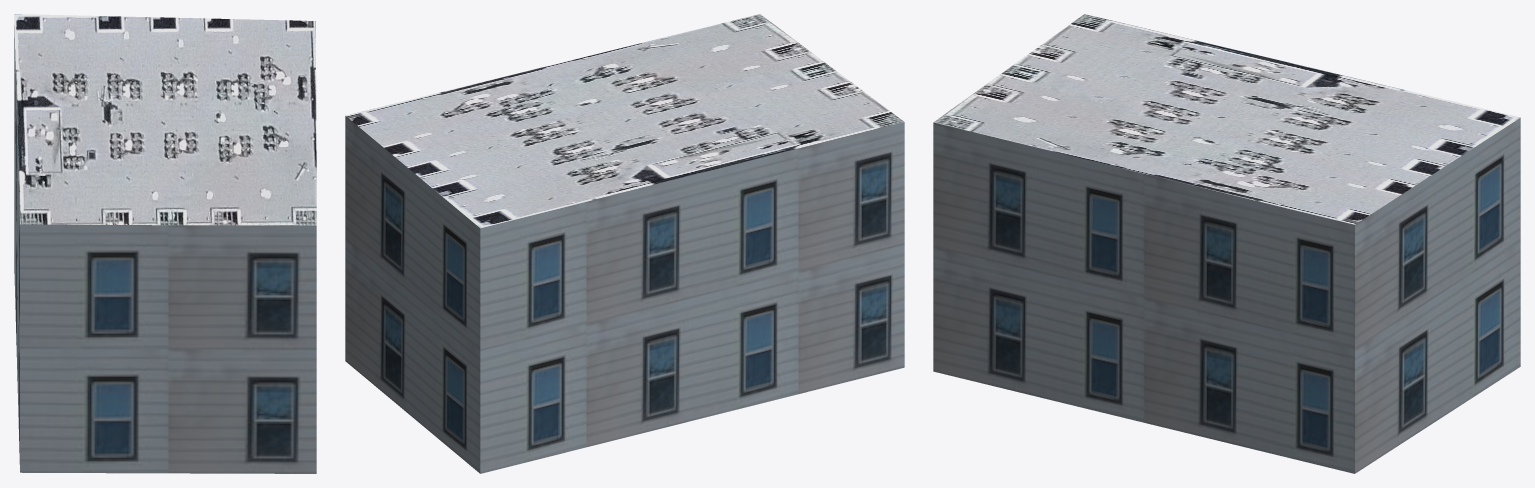
The model's file is ResTex__4426.fbx.
3 views of the same model, side by side, from view 1: azimuth 30°, elevation 25°; view 2: azimuth 150°, elevation 25°; view 3: azimuth 270°, elevation 25° (orthographic).
Visible parts, largest first — view 1: CityEngineMaterial_18_m, CityEngineMaterial_m; view 2: CityEngineMaterial_18_m, CityEngineMaterial_m; view 3: CityEngineMaterial_18_m, CityEngineMaterial_m.
Boxes of the visible parts, x1,y1,x2,y2 form: CityEngineMaterial_18_m: (14,26,316,473); CityEngineMaterial_m: (14,14,316,225); CityEngineMaterial_18_m: (345,116,904,473); CityEngineMaterial_m: (346,14,903,228); CityEngineMaterial_18_m: (933,118,1520,473); CityEngineMaterial_m: (933,14,1520,224).
Size of the model in its own units: 10.89 by 6 by 12.83.
Materials: 2 (2 with a texture image).
